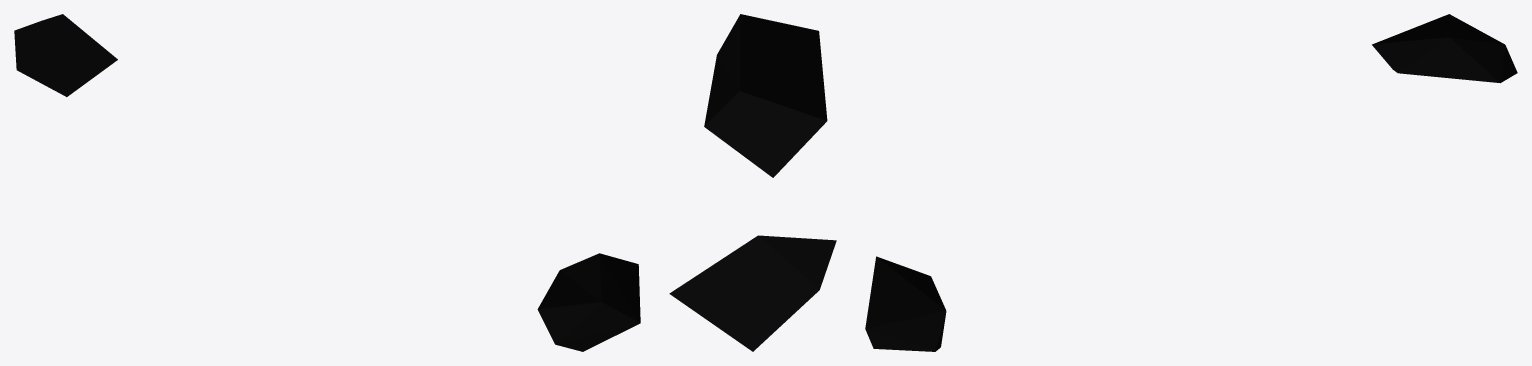
3 renders of one model, left to right at view 1: azimuth 30°, elevation 25°; view 2: azimuth 150°, elevation 25°; view 3: azimuth 270°, elevation 25°, orthographic. The views are drawn at different scales.
Size of the model in its own units: 0.589 by 0.345 by 0.9823.
Materials: 1 (1 with a texture image).
